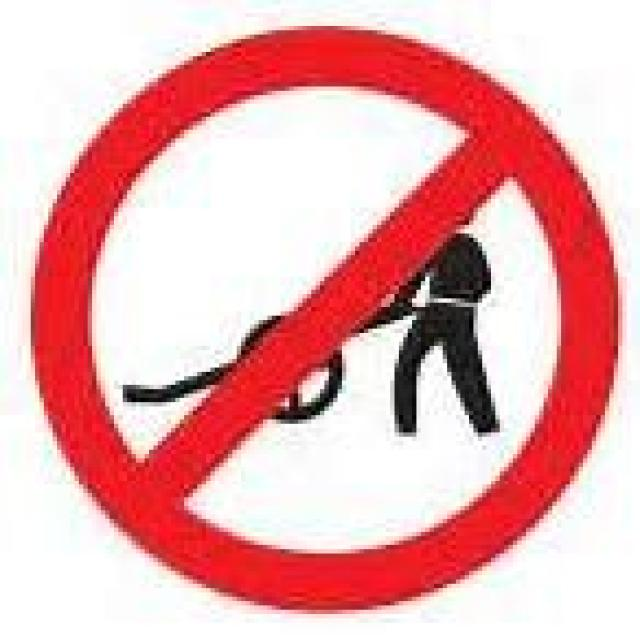railway_crossing: (31, 26, 614, 605)
